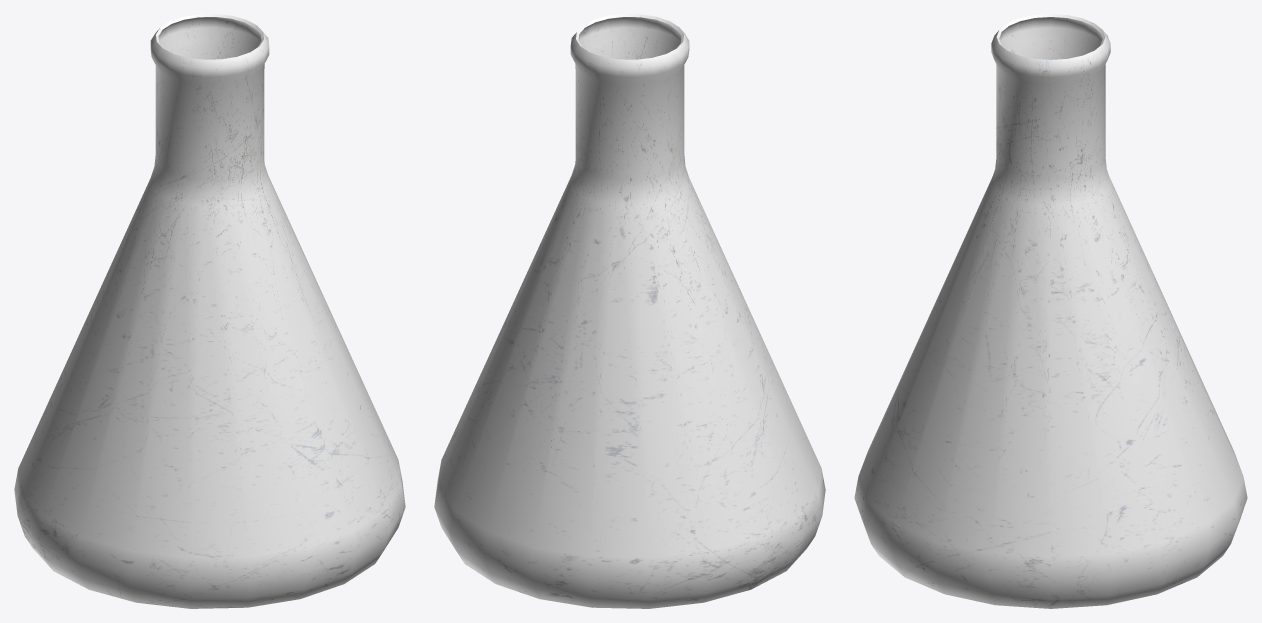
File: beaker.glb
3 renders of one model, left to right at view 1: azimuth 30°, elevation 25°; view 2: azimuth 150°, elevation 25°; view 3: azimuth 270°, elevation 25°, orthographic.
Visible parts, largest first — view 1: Cylinder002; view 2: Cylinder002; view 3: Cylinder002.
Part boxes in pixels (bbox=[...]): Cylinder002: bbox=[14, 14, 405, 608]; Cylinder002: bbox=[434, 14, 825, 608]; Cylinder002: bbox=[854, 14, 1247, 608].
Size of the model in its own units: 0.4679 by 0.6622 by 0.4679.
1 material, 1 textured.
